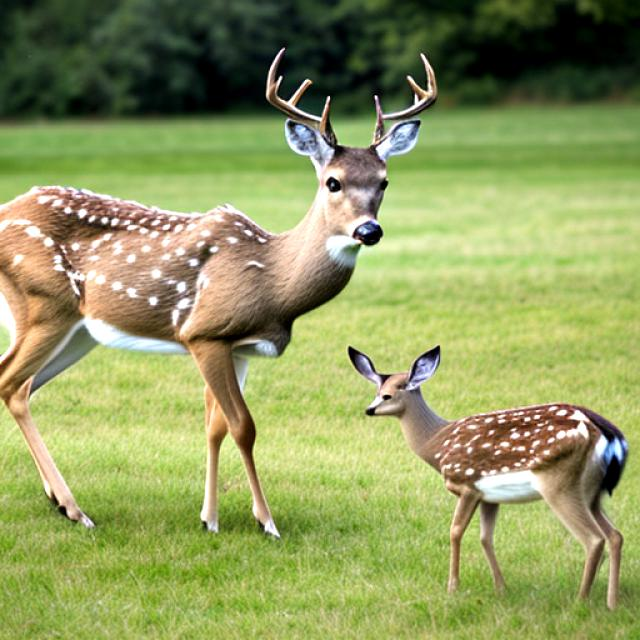deer: (144, 52, 476, 300), (306, 322, 616, 566)
